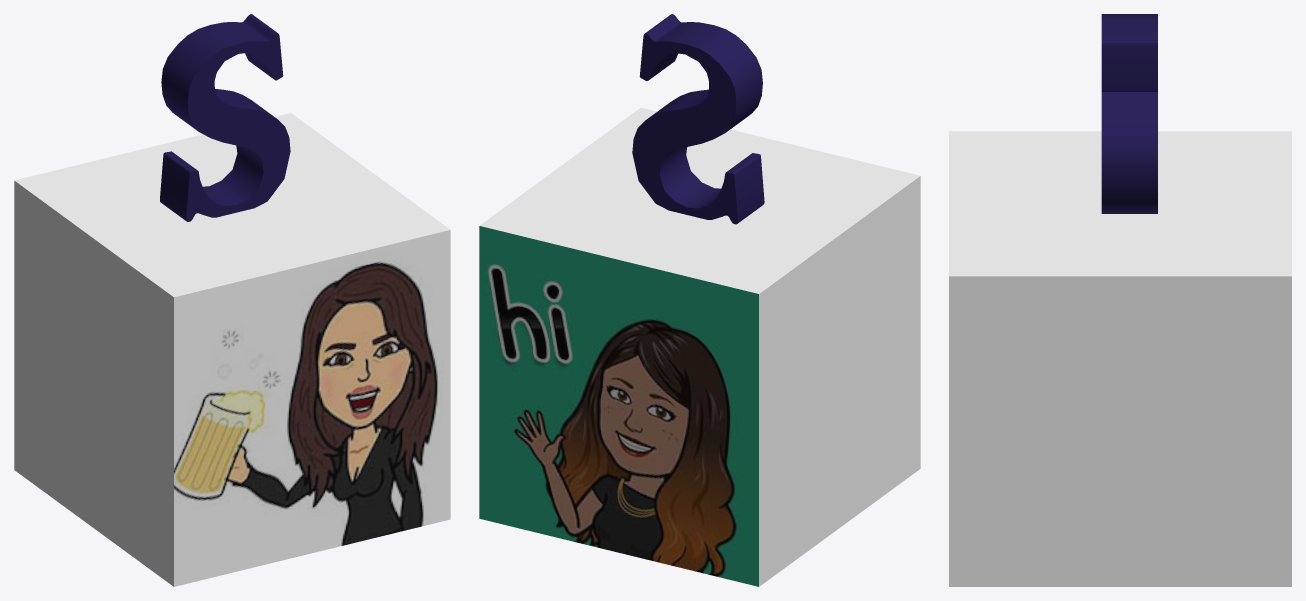
File: sbox.gltf
3 renders of one model, left to right at view 1: azimuth 30°, elevation 25°; view 2: azimuth 150°, elevation 25°; view 3: azimuth 270°, elevation 25°, orthographic. The views are drawn at different scales.
Visible parts, largest first — view 1: Cube, Text; view 2: Cube, Text; view 3: Cube, Text.
Boxes of the visible parts, x1=… form: Cube: x1=14, y1=113, x2=450, y2=586; Text: x1=160, y1=14, x2=290, y2=221; Cube: x1=479, y1=107, x2=920, y2=586; Text: x1=632, y1=14, x2=764, y2=224; Cube: x1=949, y1=131, x2=1291, y2=586; Text: x1=1101, y1=14, x2=1157, y2=213.
Bounding box in the file's own units: 2 × 3.17 × 2.
5 materials, 2 textured.
